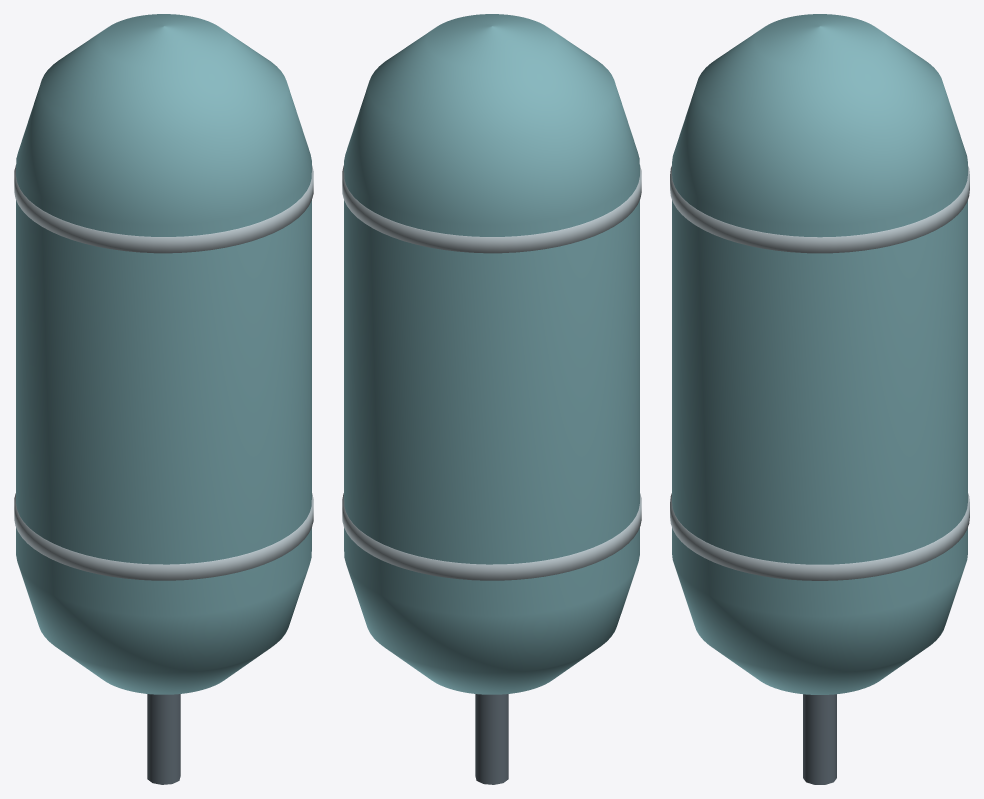
The model's file is columbia_sps_fuel_tank.glb.
3 renders of one model, left to right at view 1: azimuth 30°, elevation 25°; view 2: azimuth 150°, elevation 25°; view 3: azimuth 270°, elevation 25°, orthographic.
Visible parts, largest first — view 1: apollo_smcutawaysps_fuel_0mesh.mesh_Cutaway_•_SPS_fuel, apollo_smcutawaysps_fuel_0mesh.mesh_Satin_aluminum, apollo_smcutawaysps_fuel_0mesh.mesh_Machined_steel; view 2: apollo_smcutawaysps_fuel_0mesh.mesh_Cutaway_•_SPS_fuel, apollo_smcutawaysps_fuel_0mesh.mesh_Satin_aluminum, apollo_smcutawaysps_fuel_0mesh.mesh_Machined_steel; view 3: apollo_smcutawaysps_fuel_0mesh.mesh_Cutaway_•_SPS_fuel, apollo_smcutawaysps_fuel_0mesh.mesh_Satin_aluminum, apollo_smcutawaysps_fuel_0mesh.mesh_Machined_steel.
Boxes of the visible parts, x1,y1,x2,y2 form: apollo_smcutawaysps_fuel_0mesh.mesh_Cutaway_•_SPS_fuel: (16, 14, 311, 694); apollo_smcutawaysps_fuel_0mesh.mesh_Satin_aluminum: (14, 165, 313, 580); apollo_smcutawaysps_fuel_0mesh.mesh_Machined_steel: (147, 694, 180, 784); apollo_smcutawaysps_fuel_0mesh.mesh_Cutaway_•_SPS_fuel: (344, 14, 639, 694); apollo_smcutawaysps_fuel_0mesh.mesh_Satin_aluminum: (342, 165, 641, 580); apollo_smcutawaysps_fuel_0mesh.mesh_Machined_steel: (475, 694, 508, 784); apollo_smcutawaysps_fuel_0mesh.mesh_Cutaway_•_SPS_fuel: (672, 14, 967, 694); apollo_smcutawaysps_fuel_0mesh.mesh_Satin_aluminum: (670, 166, 969, 580); apollo_smcutawaysps_fuel_0mesh.mesh_Machined_steel: (803, 694, 836, 784).
Bounding box in the file's own units: 1.24 × 3.42 × 1.24.
